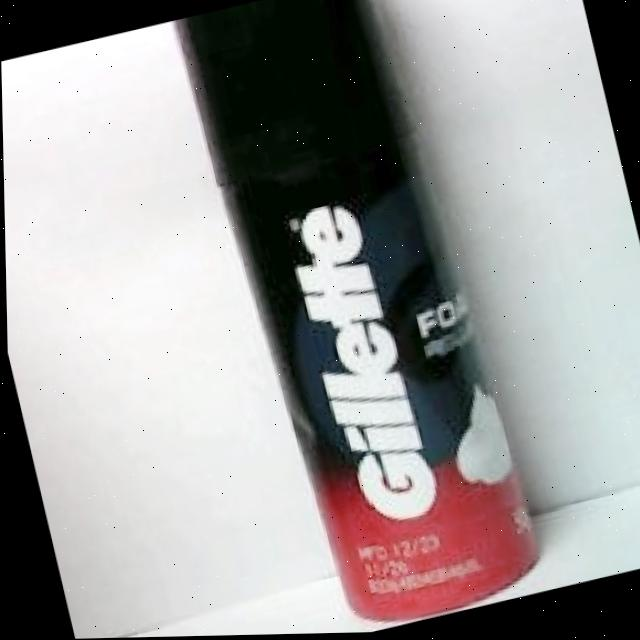gillette-foam: (178, 0, 542, 628)
